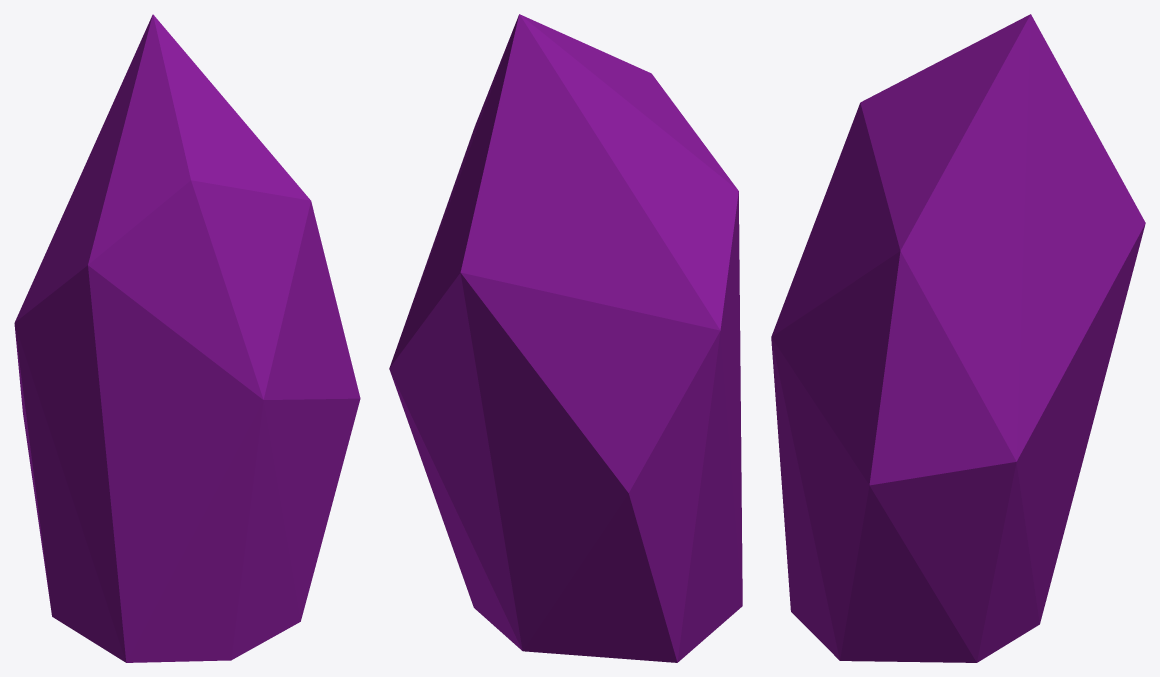
The model's file is GemStone04.fbx.
3 views of the same model, side by side, from view 1: azimuth 30°, elevation 25°; view 2: azimuth 150°, elevation 25°; view 3: azimuth 270°, elevation 25° (orthographic). The views are drawn at different scales.
Visible parts, largest first — view 1: Icosphere.007; view 2: Icosphere.007; view 3: Icosphere.007.
Part boxes in pixels (x1,y1,x2,y2): Icosphere.007: [14, 14, 360, 662]; Icosphere.007: [389, 14, 742, 662]; Icosphere.007: [771, 14, 1145, 662].
Bounding box in the file's own units: 49.99 × 91.33 × 50.47.
